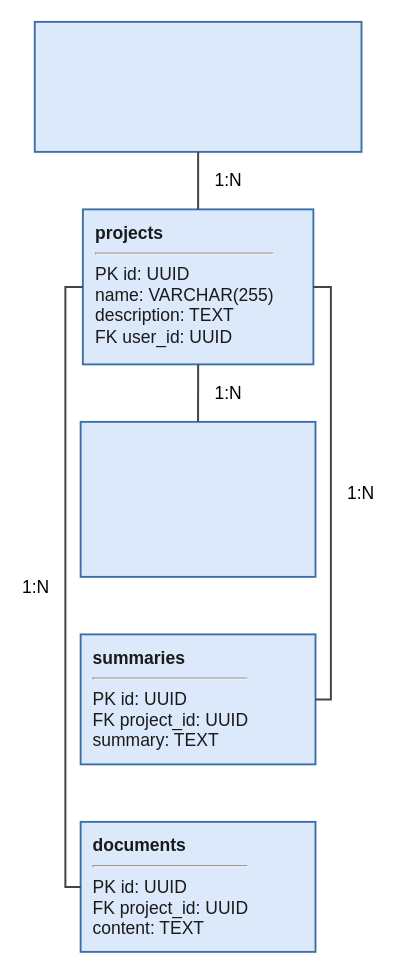
Some shapes in this 396 by 975 pixel diagram are drawn without their labels. Here are the shapes that lost their labels. From the top down, the centre of each, then its label:
At pixel 197 86: "users PK id: UUID email: VARCHAR(255) password_hash: VARCHAR(255)".
At pixel 197 498: "chats PK id: UUID FK project_id: UUID message: TEXT response: TEXT".
